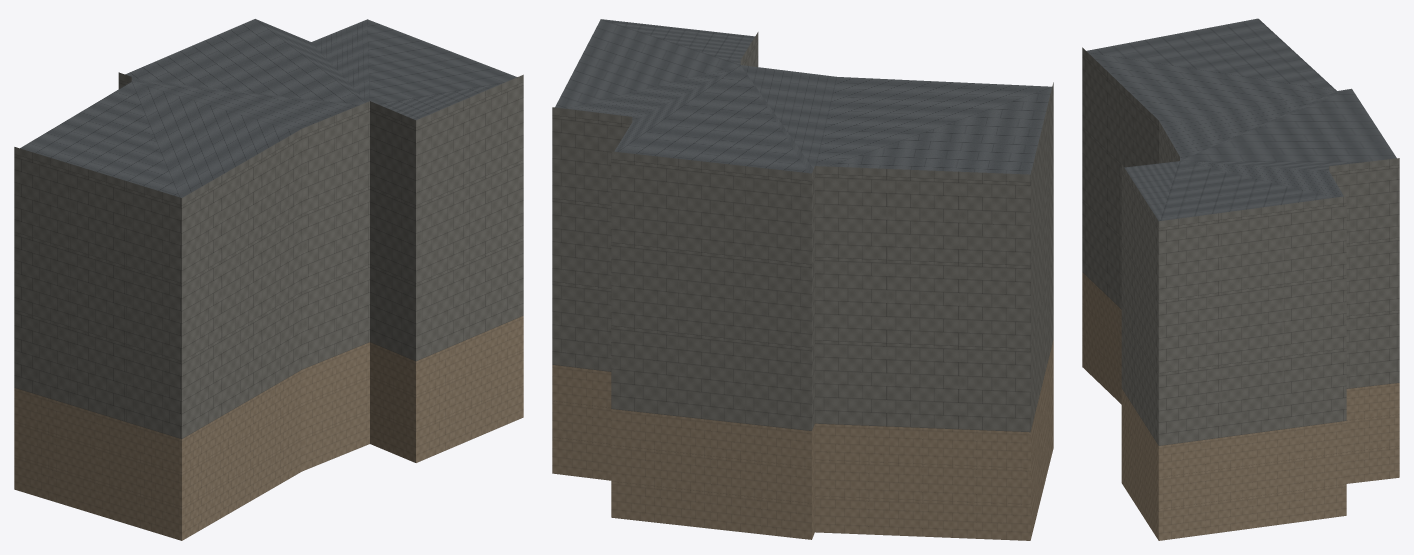
The model's file is core_0113.gltf.
3 views of the same model, side by side, from view 1: azimuth 30°, elevation 25°; view 2: azimuth 150°, elevation 25°; view 3: azimuth 270°, elevation 25° (orthographic). The views are drawn at different scales.
Visible parts, largest first — view 1: core_0113; view 2: core_0113; view 3: core_0113.
Boxes of the visible parts, left/top/right/bottom form: core_0113: left=14, top=19, right=523, bottom=540; core_0113: left=552, top=19, right=1053, bottom=540; core_0113: left=1082, top=18, right=1399, bottom=540.
Size of the model in its own units: 23.89 by 17.18 by 15.47.
3 materials, 3 textured.
